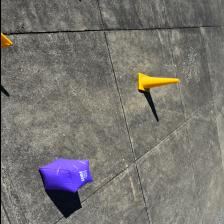cone: (138, 73, 178, 93), (0, 32, 12, 48)
cube: (37, 159, 92, 192)
